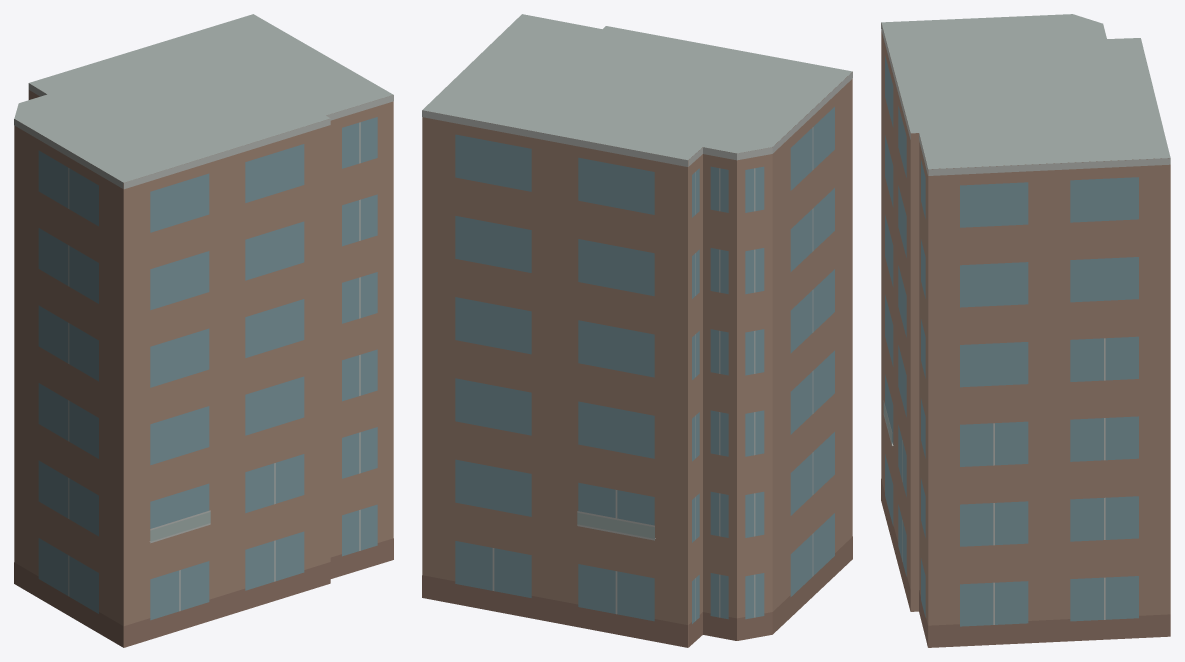
File: survey-upis-32663695.glb
3 renders of one model, left to right at view 1: azimuth 30°, elevation 25°; view 2: azimuth 150°, elevation 25°; view 3: azimuth 270°, elevation 25°, orthographic. The views are drawn at different scales.
Visible parts, largest first — view 1: survey-upis-32663695.tmp; view 2: survey-upis-32663695.tmp; view 3: survey-upis-32663695.tmp.
Part boxes in pixels (x1=…): survey-upis-32663695.tmp: x1=14, y1=14, x2=393, y2=647; survey-upis-32663695.tmp: x1=422, y1=14, x2=852, y2=647; survey-upis-32663695.tmp: x1=881, y1=14, x2=1170, y2=647.
Size of the model in its own units: 12.01 by 17.25 by 9.46.
